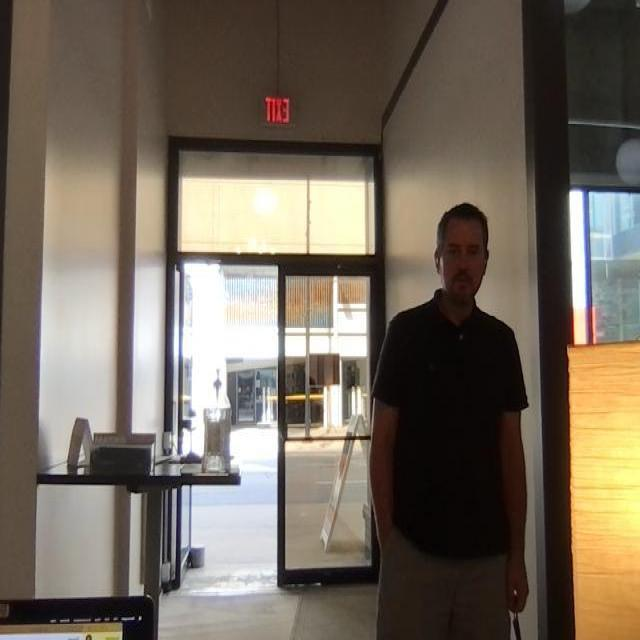face: (434, 199, 489, 305)
